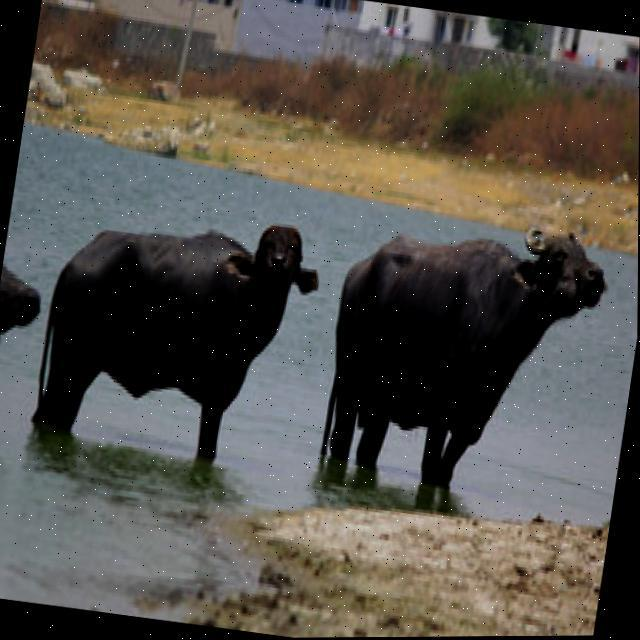Buffalo: (315, 193, 616, 510), (24, 193, 332, 473)
